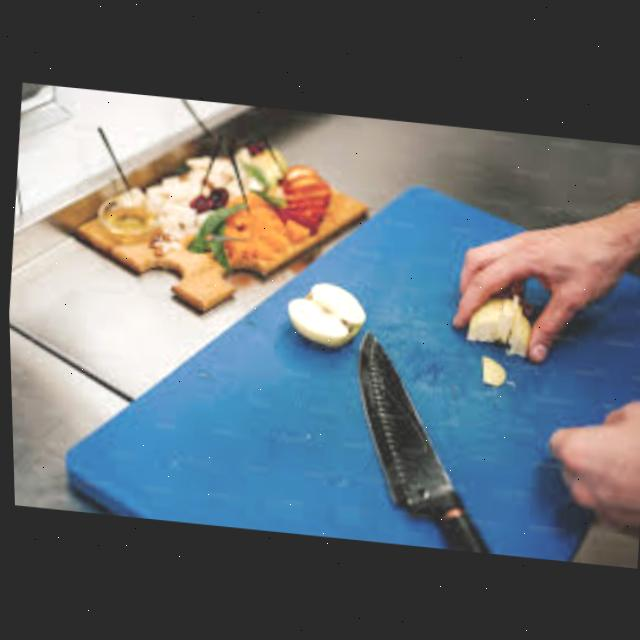knife: (417, 154, 640, 565), (340, 327, 511, 552)
